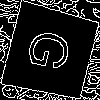G: (25, 26, 81, 77)
